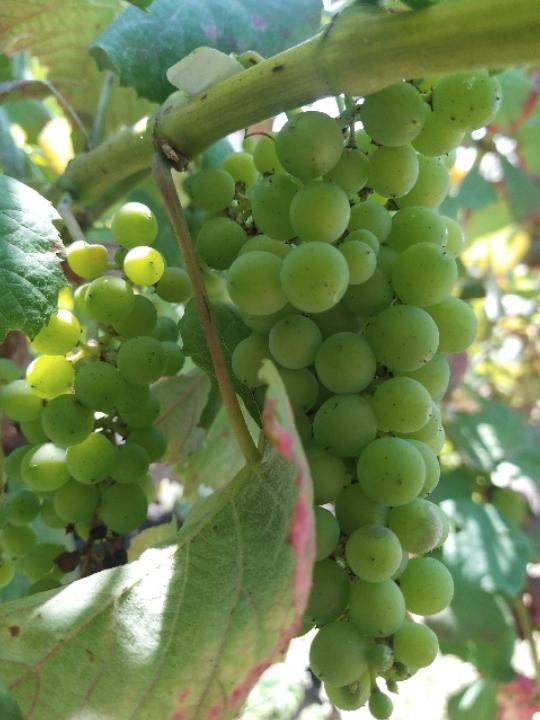grape: (182, 70, 501, 720), (2, 202, 181, 579)
